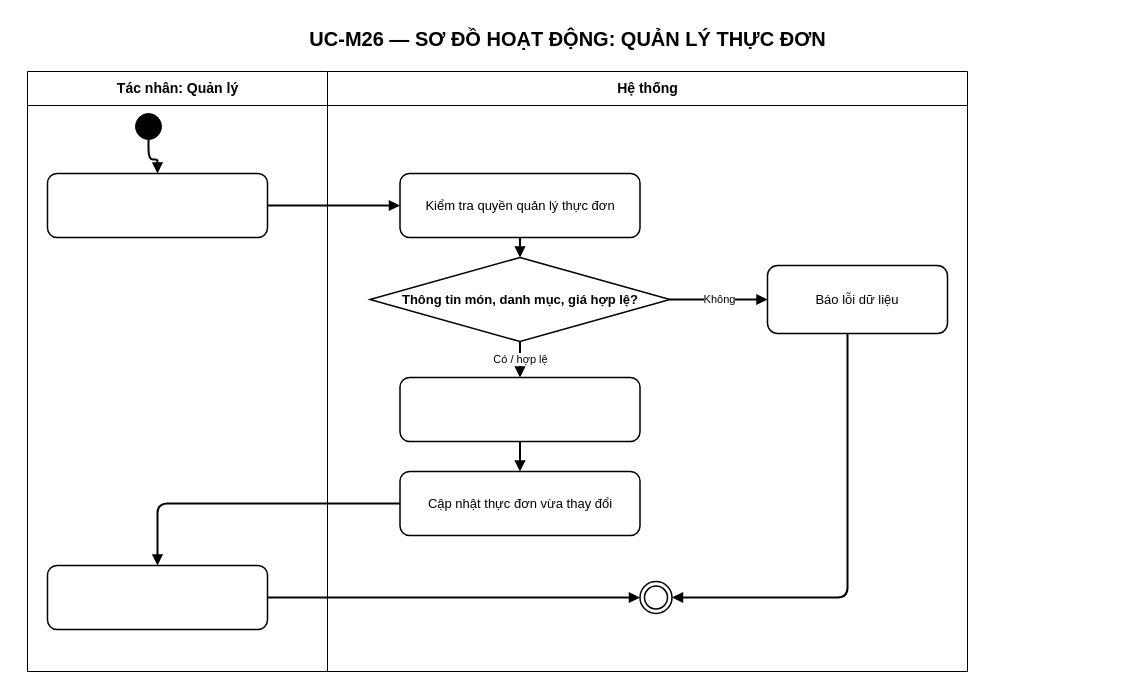
This 1134x689 diagram has some shape labels left out. The centre of each missing label's shape, as x and y in pixels:
Danh sách thực đơn cập nhật: (157,597)
Lưu món vào danh sách: (519,409)
Mở quản lý thực đơn và chọn tạo, sửa hoặc xóa món: (157,205)
